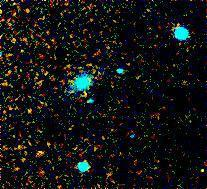star: (184, 156, 207, 186)
